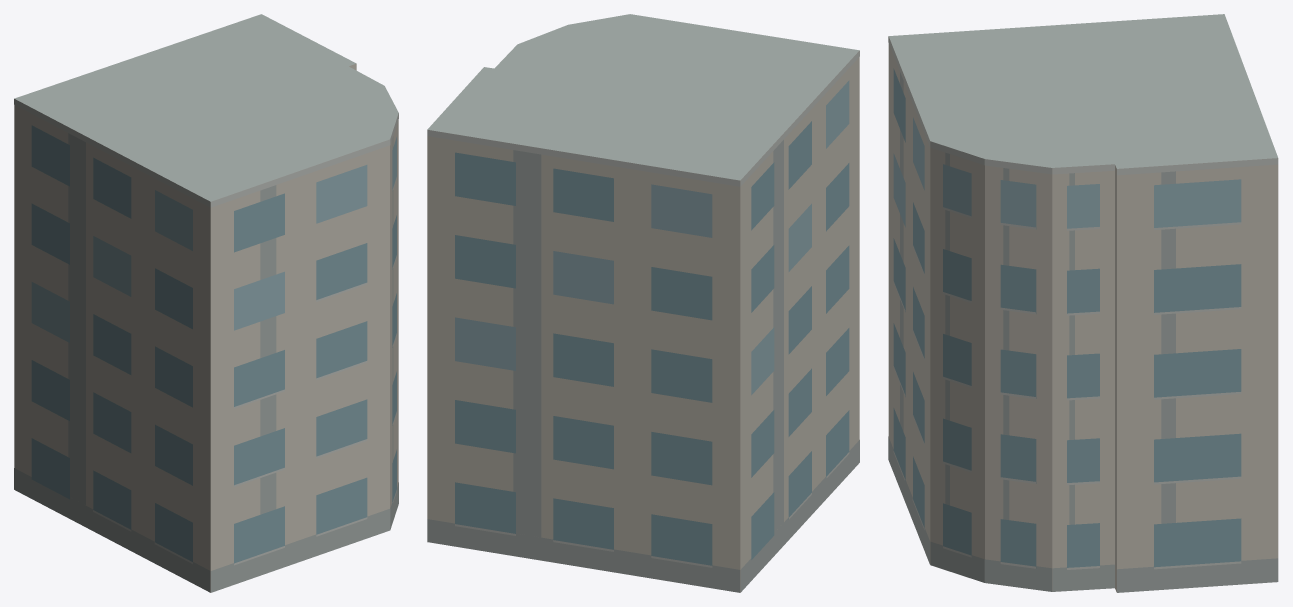
File: survey-upis-32575697.glb
The picture shows the model from 3 angles, left to right: view 1: azimuth 30°, elevation 25°; view 2: azimuth 150°, elevation 25°; view 3: azimuth 270°, elevation 25°; orthographic projection. The views are drawn at different scales.
Visible parts, largest first — view 1: survey-upis-32575697.tmp; view 2: survey-upis-32575697.tmp; view 3: survey-upis-32575697.tmp.
Part boxes in pixels (x1,y1,x2,y2): survey-upis-32575697.tmp: (14, 14, 398, 592); survey-upis-32575697.tmp: (427, 14, 859, 592); survey-upis-32575697.tmp: (888, 14, 1278, 592).
Bounding box in the file's own units: 12.51 × 15.95 × 13.3.
